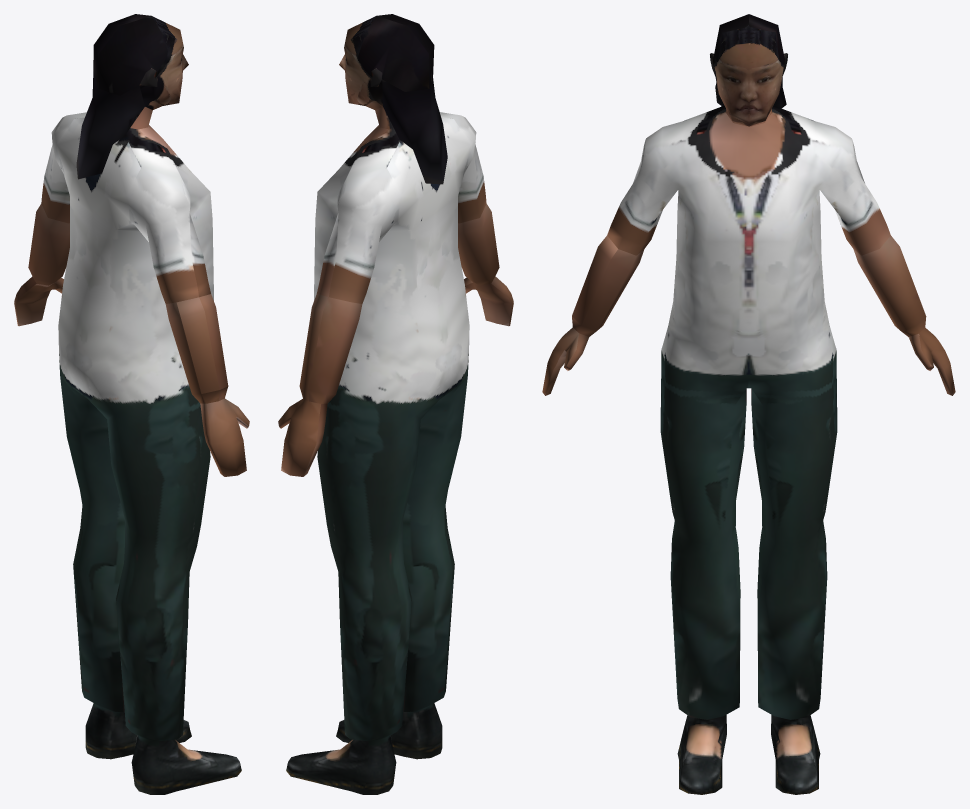
File: ira.obj
3 renders of one model, left to right at view 1: azimuth 30°, elevation 25°; view 2: azimuth 150°, elevation 25°; view 3: azimuth 270°, elevation 25°, orthographic.
Visible parts, largest first — view 1: ira; view 2: ira; view 3: ira.
Boxes of the visible parts, x1,y1,x2,y2 form: ira: (14,14,249,794); ira: (278,14,513,794); ira: (542,14,955,794).
Bounding box in the file's own units: 0.8216 × 4.27 × 2.16.
